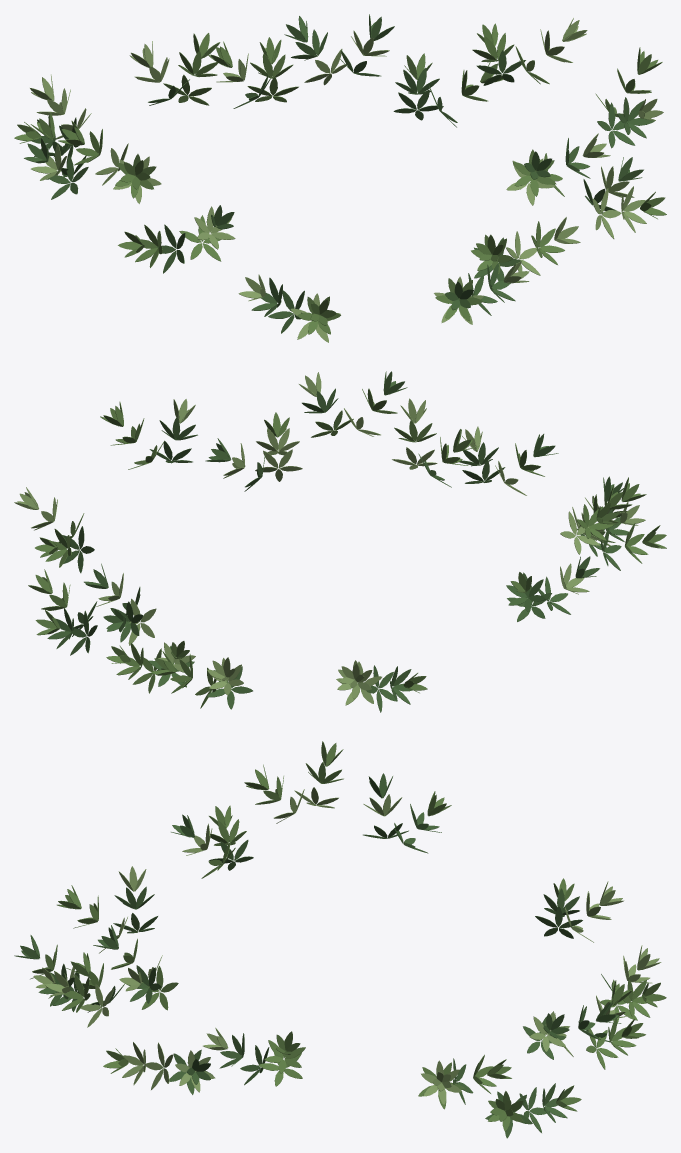
The model's file is prayer-tree-twigs.glb.
3 views of the same model, one above another, from view 1: azimuth 30°, elevation 25°; view 2: azimuth 150°, elevation 25°; view 3: azimuth 270°, elevation 25° (orthographic). The views are drawn at different scales.
Size of the model in its own units: 4.14 by 1.29 by 4.22.
